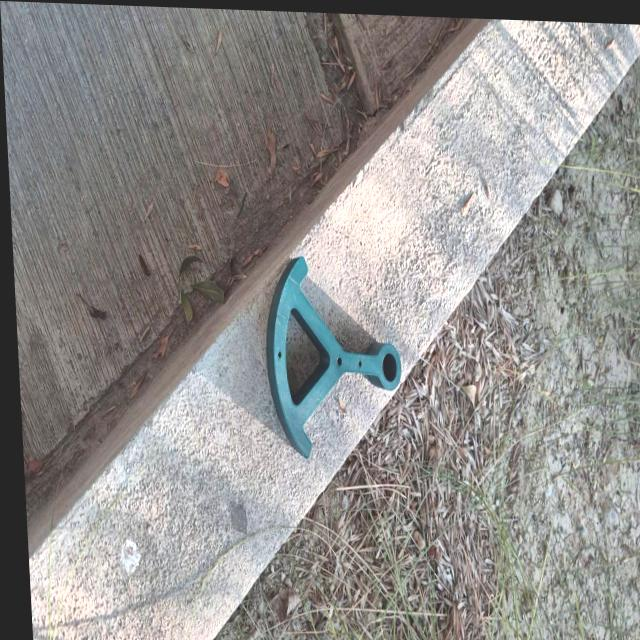haptic: (260, 253, 407, 463)
